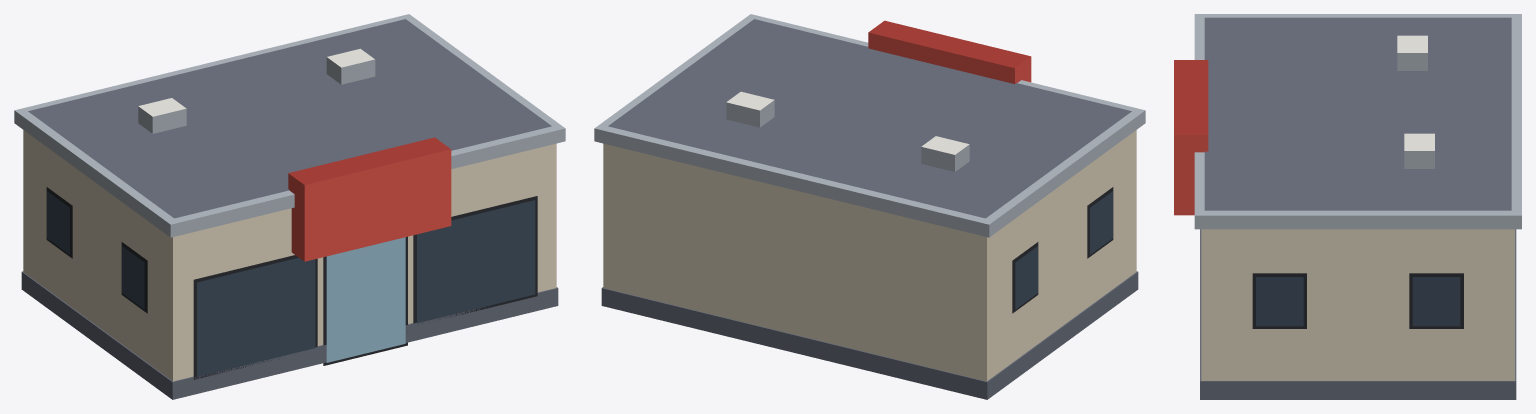
The model's file is B_Supermarket.fbx.
3 views of the same model, side by side, from view 1: azimuth 30°, elevation 25°; view 2: azimuth 150°, elevation 25°; view 3: azimuth 270°, elevation 25° (orthographic). The views are drawn at different scales.
Parts seen in each view (by area): view 1: B_Supermarket.001; view 2: B_Supermarket.001; view 3: B_Supermarket.001.
Part boxes in pixels (x1=…): B_Supermarket.001: x1=14, y1=14, x2=565, y2=399; B_Supermarket.001: x1=594, y1=14, x2=1145, y2=399; B_Supermarket.001: x1=1174, y1=14, x2=1521, y2=399.
Bounding box in the file's own units: 7 × 3.37 × 5.1.
